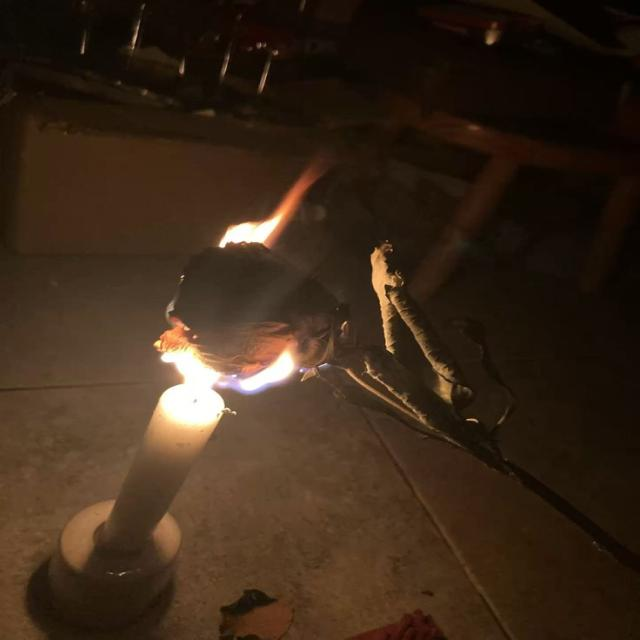fire: (161, 346, 218, 397), (234, 348, 298, 392), (216, 212, 281, 246)
